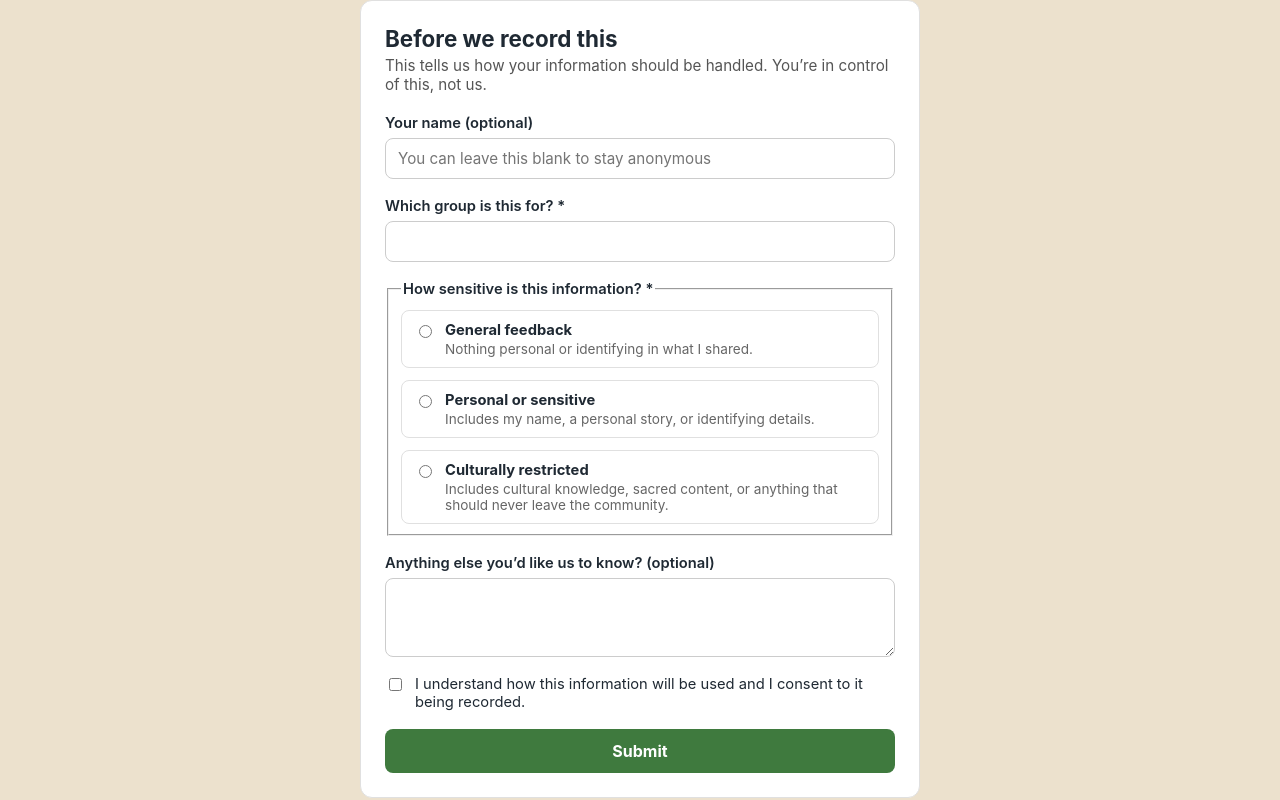
Test: ConsentCapturePage integration (Sub Task 22.3 + 22.4) › shows the real backend error message in a toast on failure
In the field labelled "Which group is this for? *": [640, 242] box [385, 221, 895, 262], type "Youth Group A"
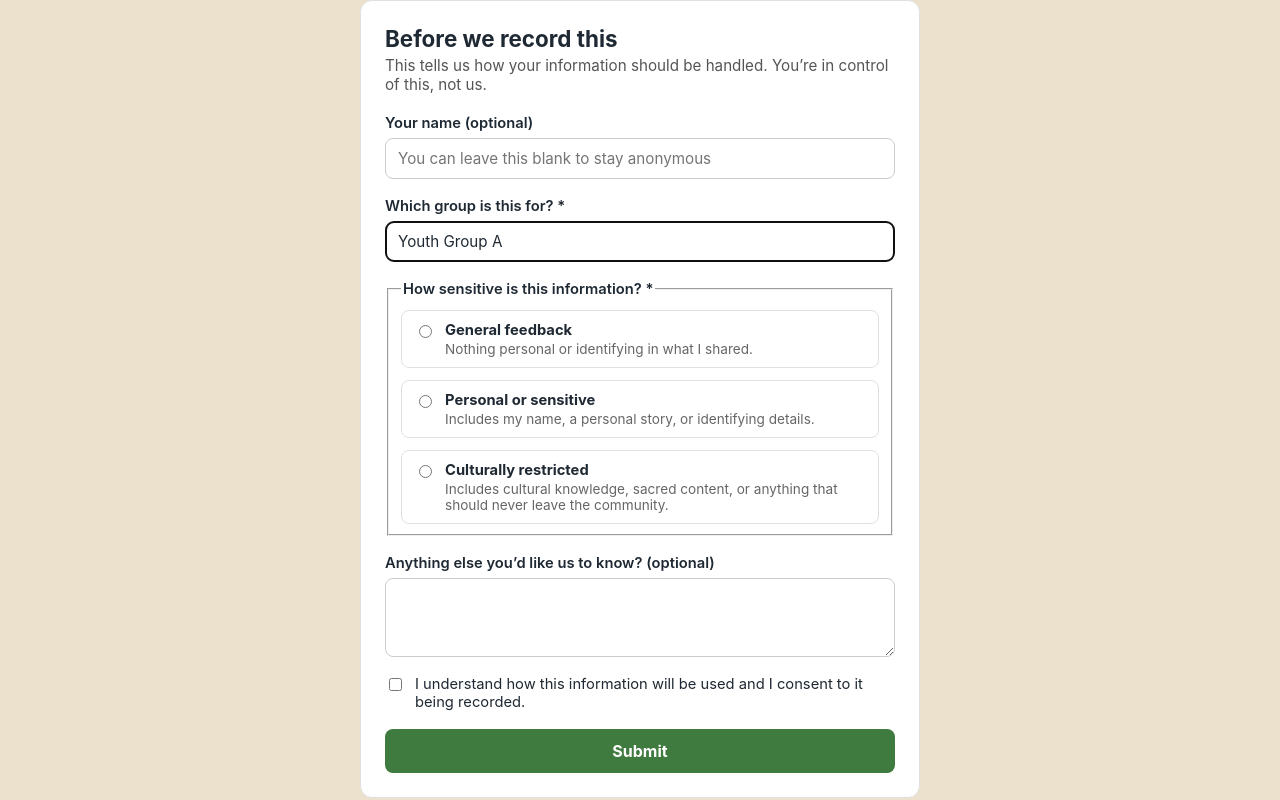
Click the radio button labelled "General feedback": [426, 331] box [419, 325, 432, 338]
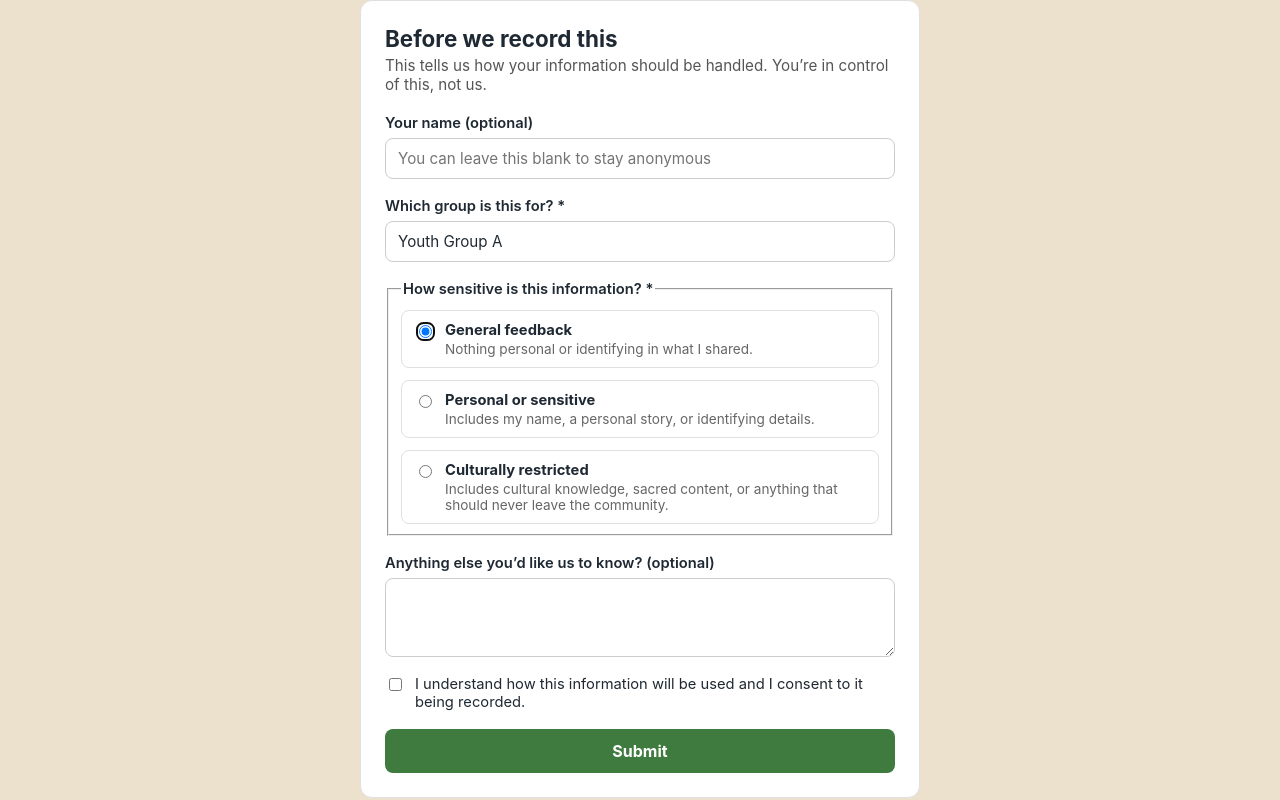
Click the checkbox labelled "I understand how this information": [396, 684] box [389, 678, 402, 691]
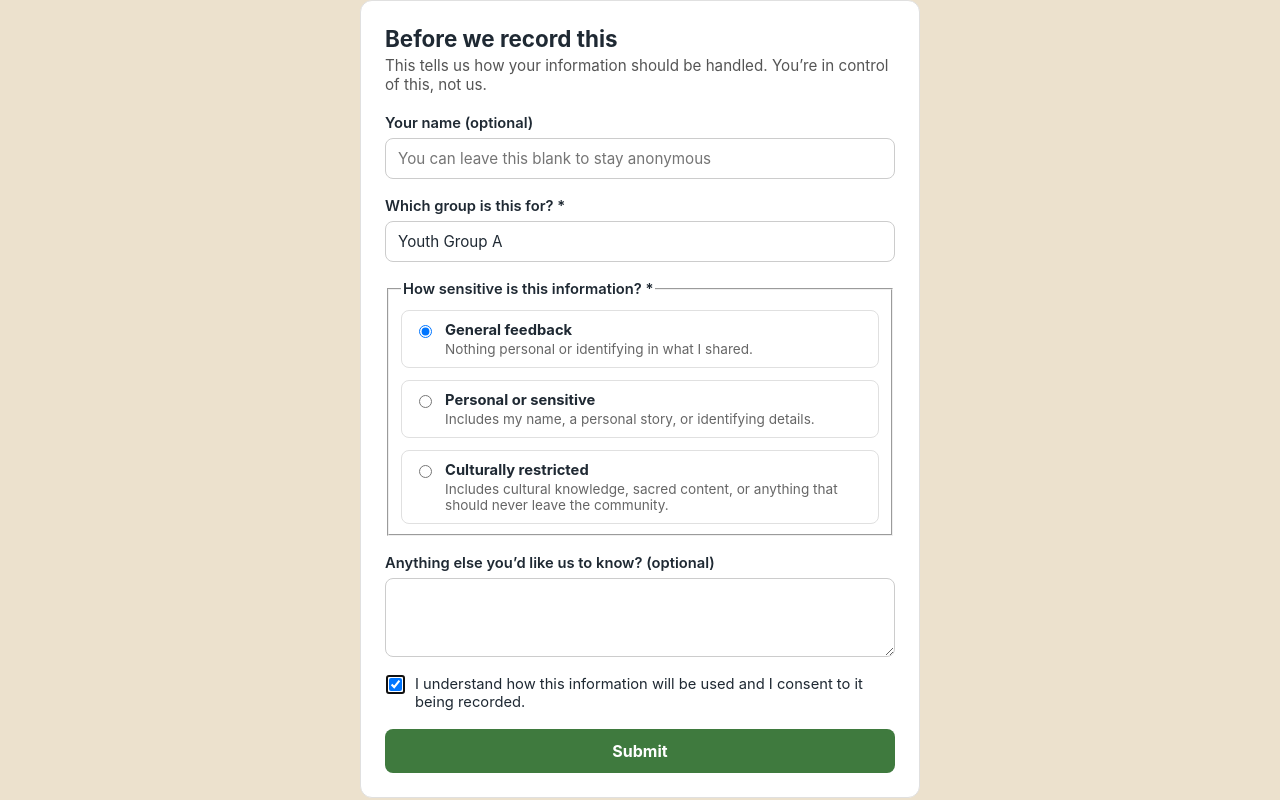
Click the button "Submit": [640, 751] box [385, 729, 895, 773]
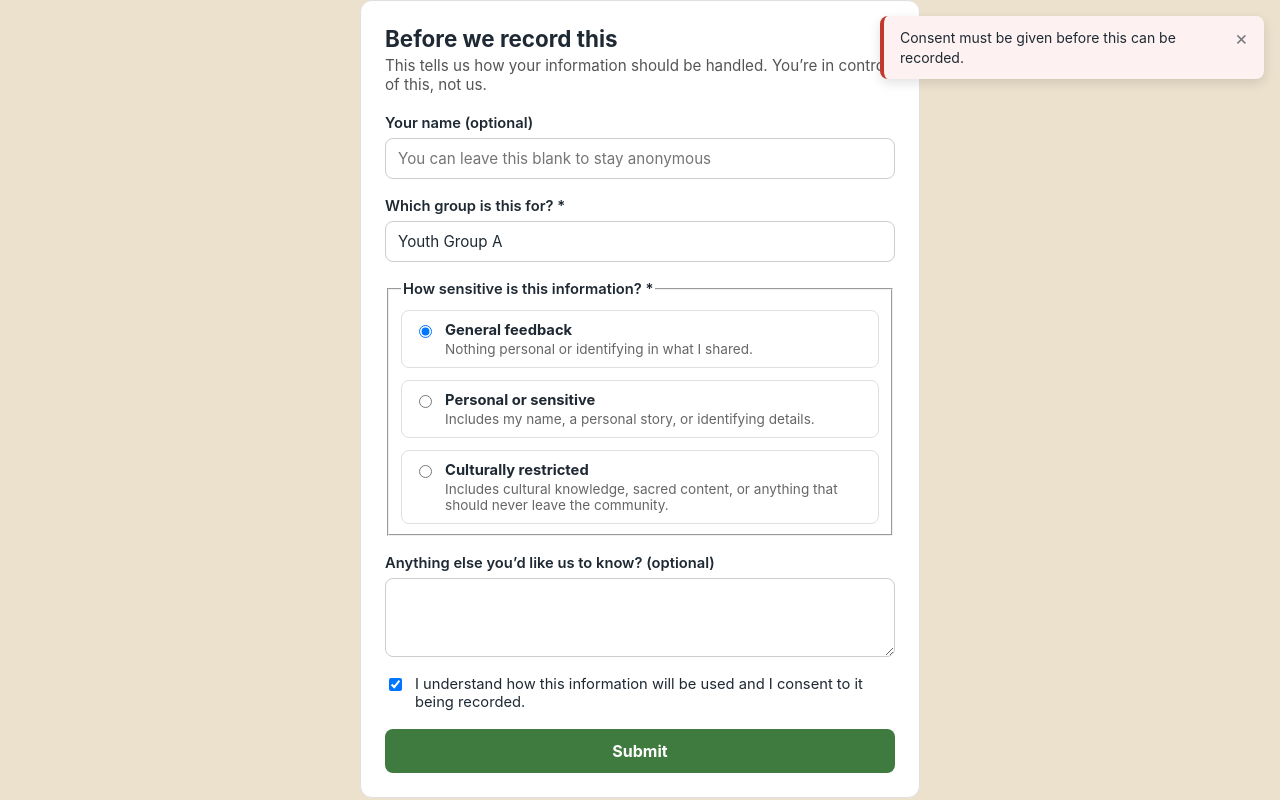
Expected: the text "Consent must be given before this can be recorded." is shown, [900, 28, 1223, 67]
